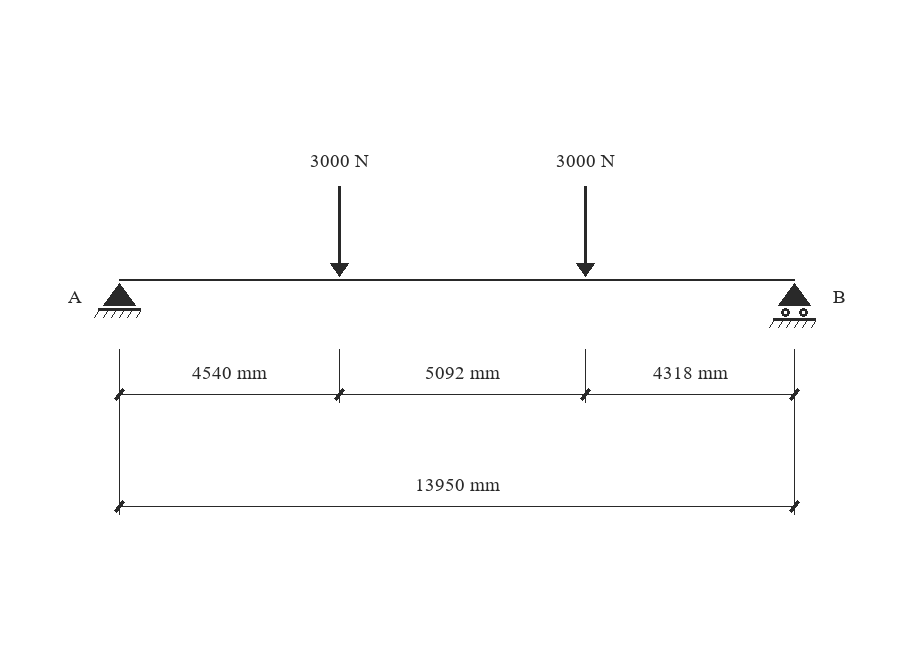pin_support: (94, 283, 141, 318)
point_load: (330, 186, 349, 277), (576, 186, 595, 277)
roller_support: (769, 283, 816, 328)
